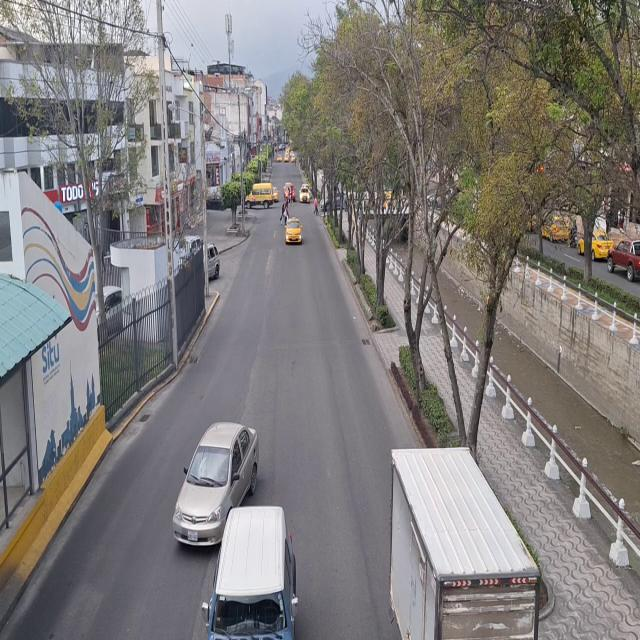CMT: (175, 426, 257, 548), (611, 242, 640, 281)
SUV: (209, 505, 295, 640)
